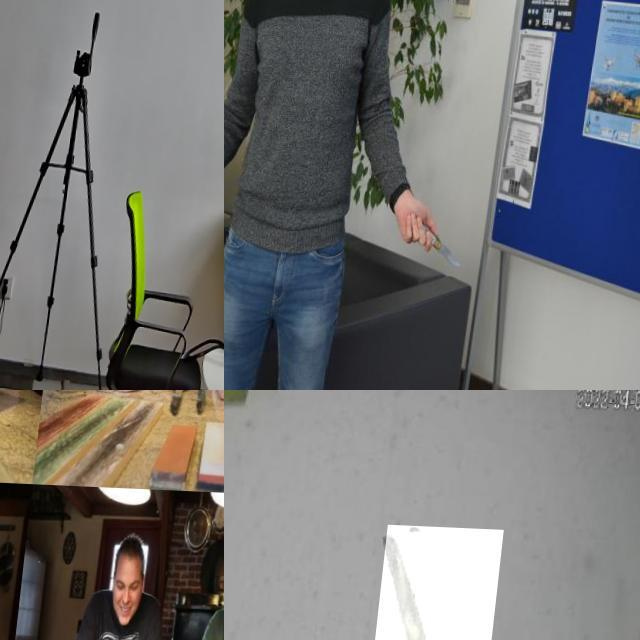-: (363, 522, 508, 640), (424, 212, 481, 268), (224, 198, 268, 243), (0, 390, 17, 426), (0, 602, 15, 640)
gun-knife-thesis - v11 Yolov5 augmented: (0, 0, 32, 100)
